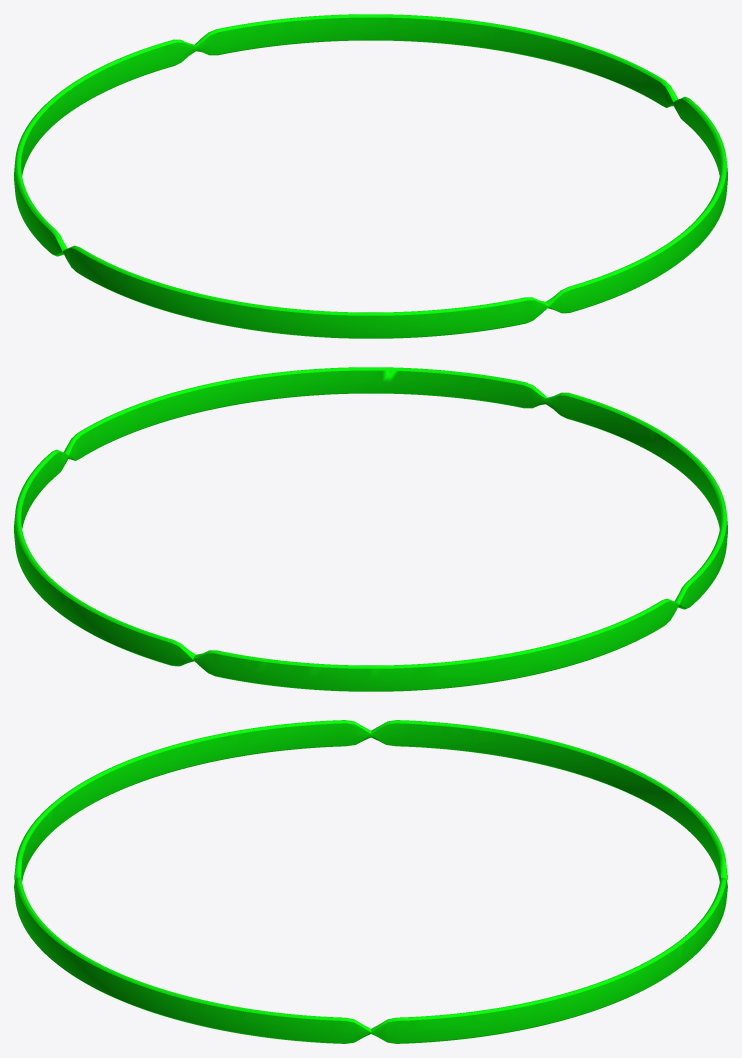
Rendered from yRotation.obj.
The picture shows the model from 3 angles, top to bottom: view 1: azimuth 30°, elevation 25°; view 2: azimuth 150°, elevation 25°; view 3: azimuth 270°, elevation 25°; orthographic projection.
Visible parts, largest first — view 1: y001; view 2: y001; view 3: y001.
Boxes of the visible parts, x1,y1,x2,y2 form: y001: (14, 14, 727, 338); y001: (14, 367, 727, 691); y001: (14, 720, 727, 1043).
Size of the model in its own units: 131 by 5.25 by 131.
